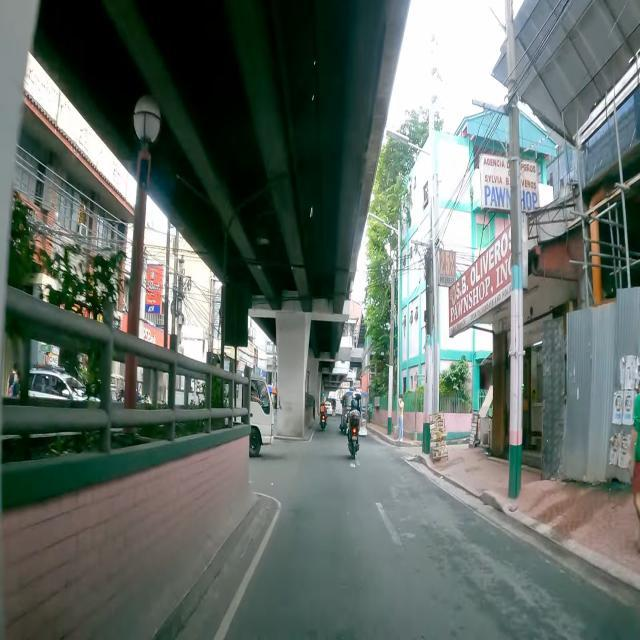car: (9, 368, 90, 400)
jeepney: (340, 391, 368, 435)
motorcycle: (347, 399, 361, 460), (320, 400, 328, 430)
truck: (166, 356, 274, 458)
